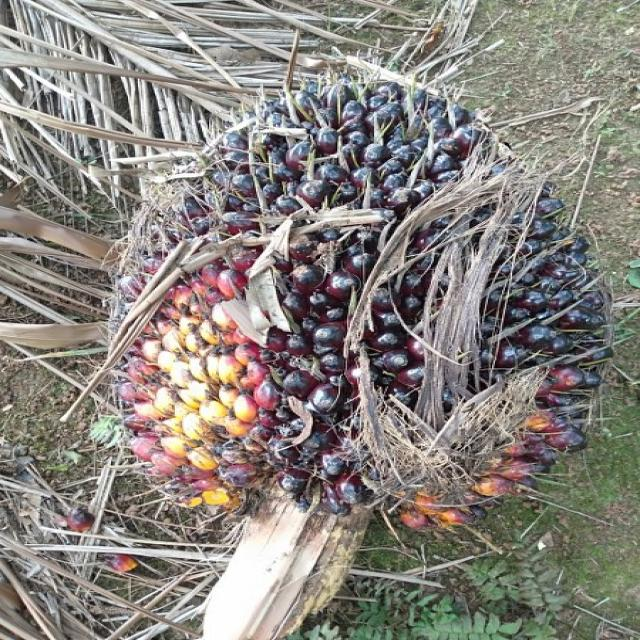fraksi 00: (46, 50, 624, 577)
